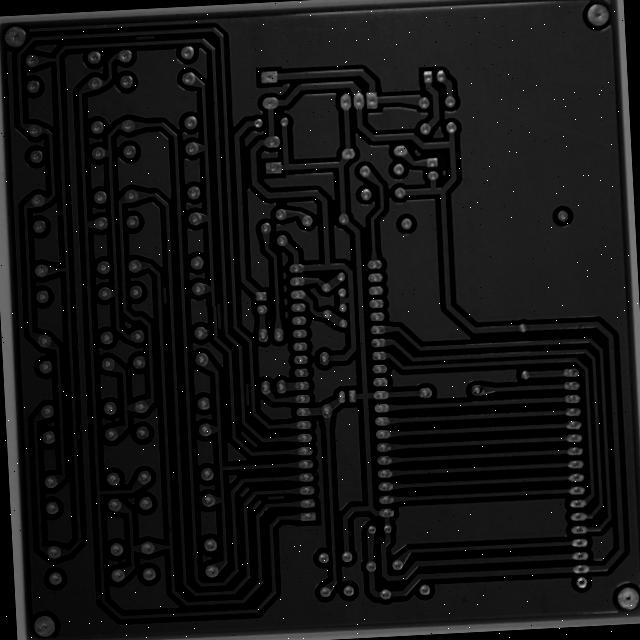spurious_copper: (121, 30, 152, 46), (203, 306, 218, 337), (233, 387, 246, 417), (149, 287, 162, 313), (259, 499, 281, 512)
